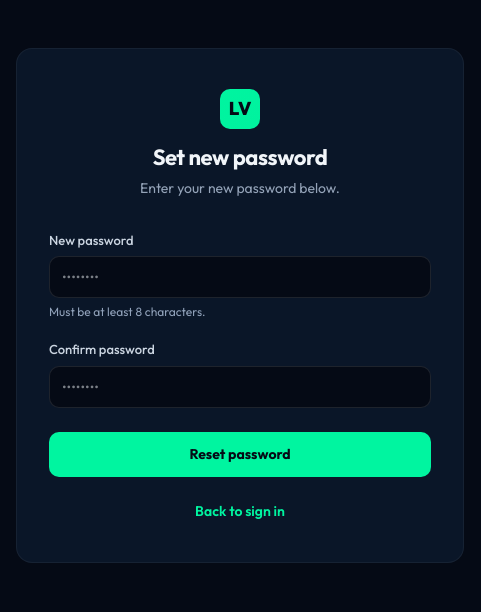
Test: C1: Reset password — full password policy › rejects passwords shorter than 8 characters
Type "Ab1cdef" into the password field labelled "New password" at (240, 277), box x1=49 y1=256 x2=431 y2=298
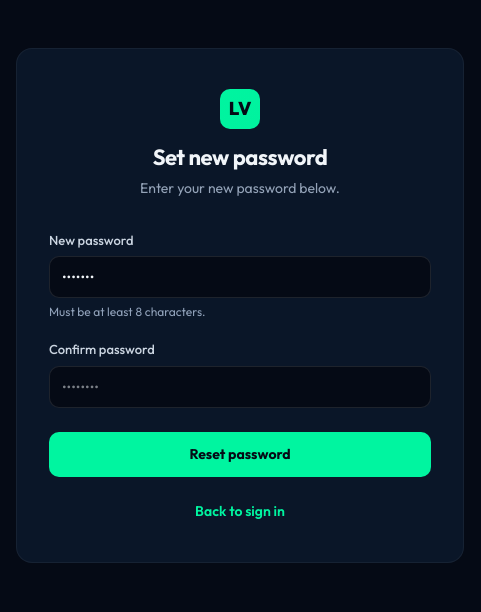
Type "Ab1cdef" into the password field labelled "Confirm password" at (240, 386), box x1=49 y1=366 x2=431 y2=408
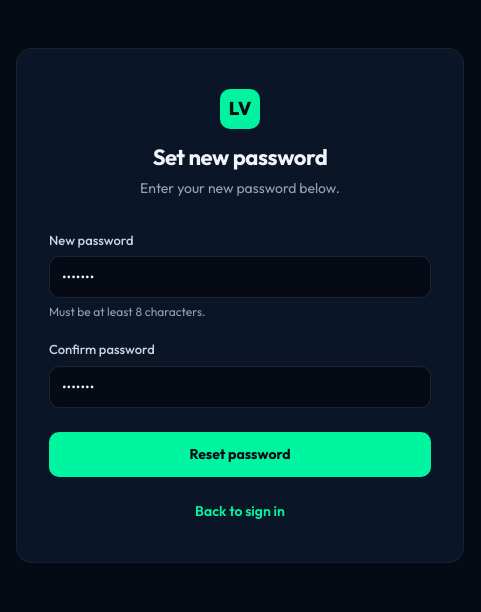
Submit the form from the button "Reset password", box x1=49 y1=432 x2=431 y2=476
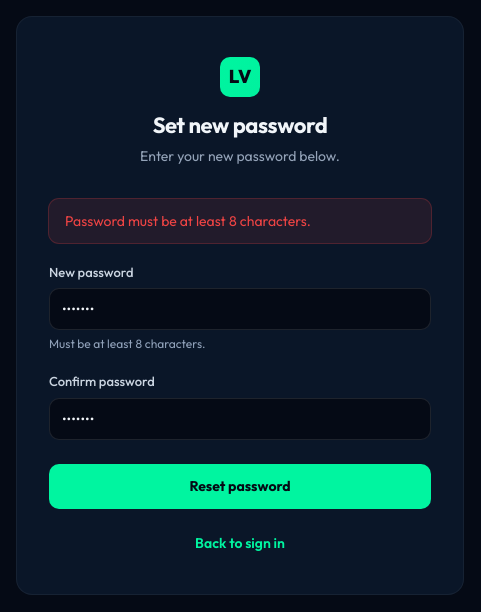
Check: the message shows "at least 8 characters", box x1=65 y1=212 x2=311 y2=230
